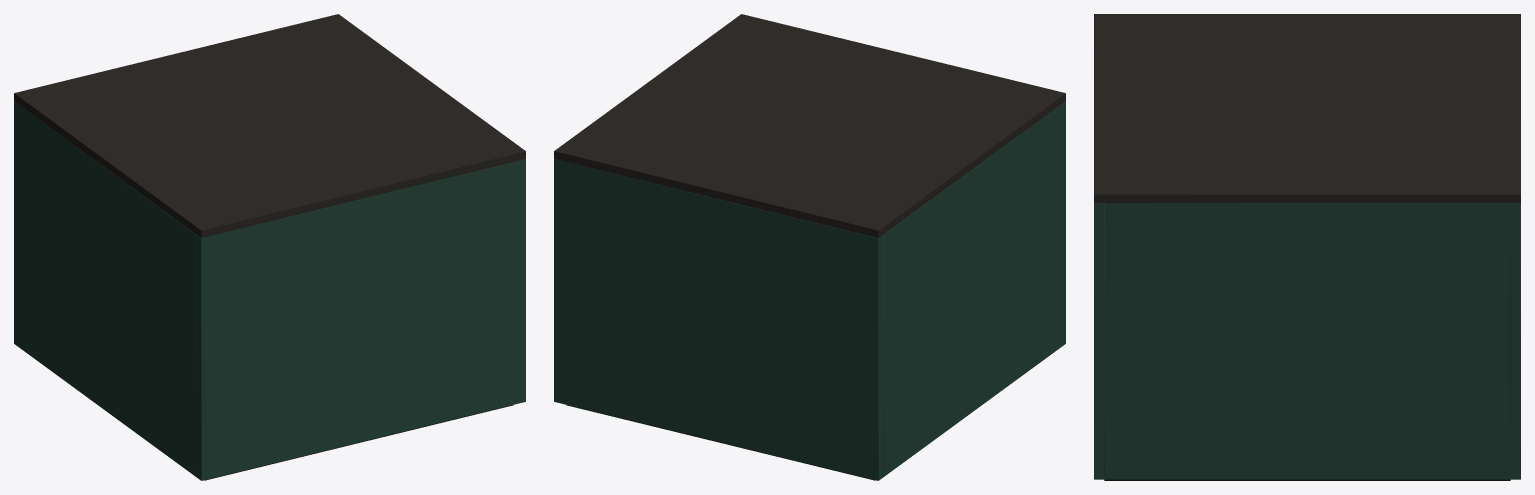
File: DartRoom.fbx
The picture shows the model from 3 angles, left to right: view 1: azimuth 30°, elevation 25°; view 2: azimuth 150°, elevation 25°; view 3: azimuth 270°, elevation 25°; orthographic projection. The views are drawn at different scales.
Visible parts, largest first — view 1: DartRoom; view 2: DartRoom; view 3: DartRoom.
Part boxes in pixels (<box>): DartRoom: <box>14,14,525,480</box>; DartRoom: <box>554,14,1065,480</box>; DartRoom: <box>1094,14,1520,480</box>.
Bounding box in the file's own units: 4.2 × 3.16 × 4.2.
